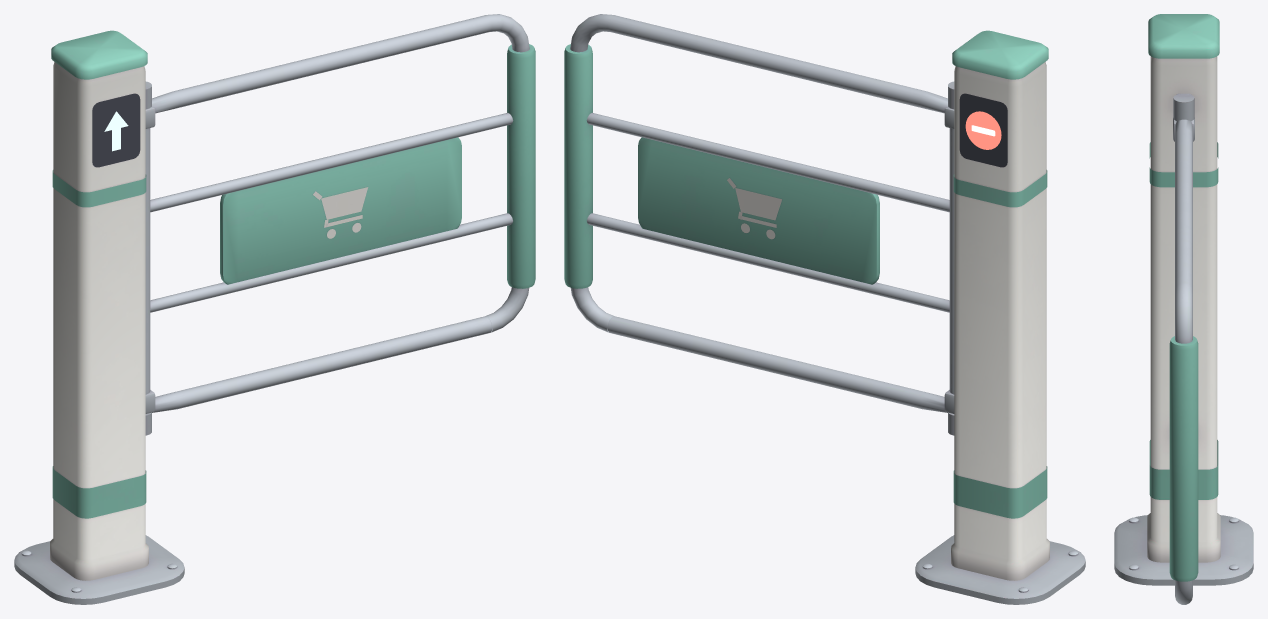
Rendered from entrance-turnstile.fbx.
3 views of the same model, side by side, from view 1: azimuth 30°, elevation 25°; view 2: azimuth 150°, elevation 25°; view 3: azimuth 270°, elevation 25° (orthographic).
Visible parts, largest first — view 1: entrance-turnstile_body, entrance-turnstile_gate; view 2: entrance-turnstile_body, entrance-turnstile_gate, entrance-turnstile_arrow_glow; view 3: entrance-turnstile_body, entrance-turnstile_gate.
Boxes of the visible parts, box(x1,y1,x2,y2) form: entrance-turnstile_body: box(14, 30, 184, 604); entrance-turnstile_gate: box(145, 14, 535, 413); entrance-turnstile_body: box(915, 30, 1085, 604); entrance-turnstile_gate: box(564, 14, 954, 413); entrance-turnstile_arrow_glow: box(965, 111, 1001, 149); entrance-turnstile_body: box(1114, 14, 1253, 585); entrance-turnstile_gate: box(1169, 118, 1198, 604).
Bounding box in the file's own units: 1.04 × 1.04 × 0.25.
5 materials, 2 textured.
